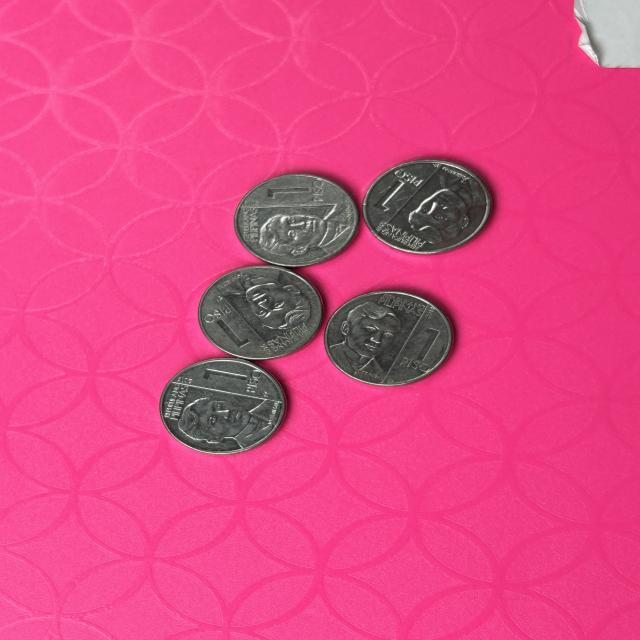1_New_Front: (397, 317, 445, 373), (203, 361, 270, 397), (372, 162, 415, 215), (206, 304, 250, 343), (259, 180, 322, 207)
